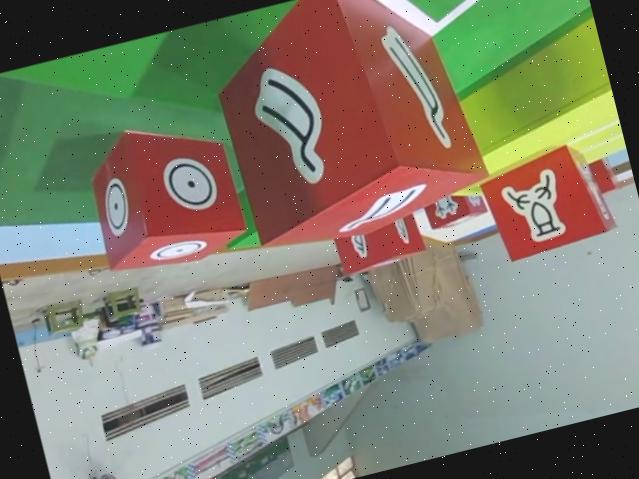R2 Real: (198, 0, 494, 262), (76, 106, 251, 282), (475, 136, 621, 264)
